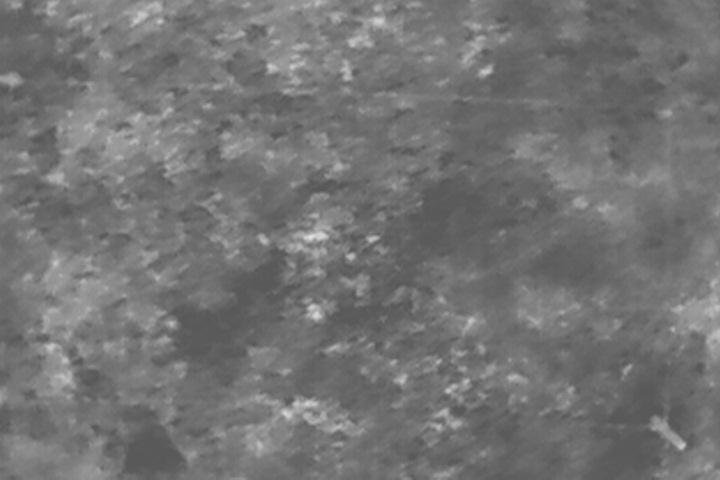landmine: (301, 228, 330, 246)
